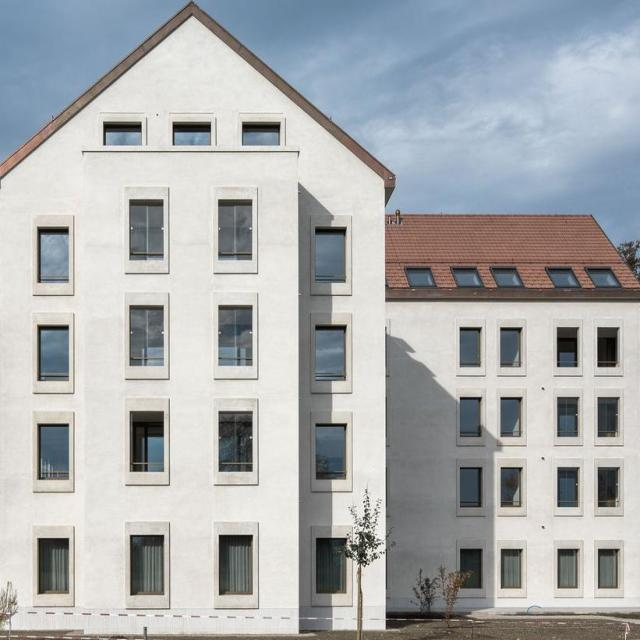plant: (341, 481, 399, 567)
windows: (218, 536, 254, 594), (128, 306, 163, 364), (130, 536, 167, 590), (132, 410, 164, 472), (219, 413, 252, 472), (219, 202, 252, 260), (131, 202, 164, 260), (220, 306, 253, 364), (317, 540, 346, 595), (39, 421, 66, 480), (40, 536, 68, 592), (41, 329, 70, 381), (317, 426, 346, 478), (316, 328, 343, 381), (40, 231, 69, 280), (316, 232, 344, 281), (557, 396, 579, 436), (557, 466, 578, 507), (501, 548, 521, 588), (598, 396, 619, 434), (559, 547, 579, 586), (598, 467, 618, 506), (599, 550, 619, 588), (501, 466, 520, 506), (460, 327, 480, 365), (461, 398, 480, 436), (501, 398, 520, 436), (501, 328, 520, 366), (461, 468, 481, 504), (462, 550, 481, 587), (107, 125, 142, 144), (175, 126, 210, 144), (244, 128, 279, 146), (557, 338, 577, 365), (597, 336, 614, 366), (589, 269, 618, 286), (550, 271, 580, 286), (494, 270, 521, 284), (408, 269, 433, 284), (455, 270, 481, 284)
